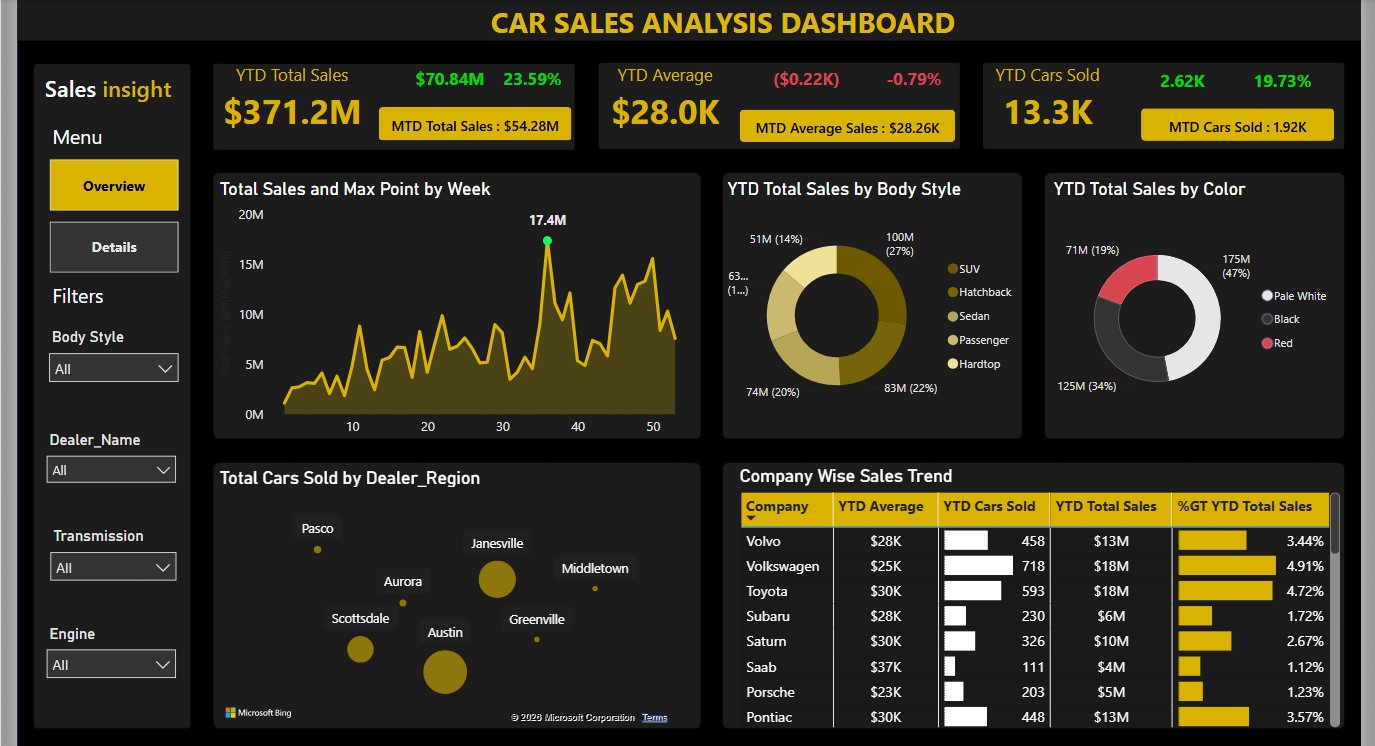

This screenshot's page, from the dashboard's own definition file:
{"tool":"powerbi","page":{"name":"Overview","canvas":[1280,720],"ordinal":0},"visuals":[{"type":"cardVisual","fields":{"Data":["KPIs.YTD Total Sales"]},"box":[161.4,45.7,200,98.6],"z":0},{"type":"cardVisual","fields":{"Data":["KPIs.Sales Diff"]},"box":[342.5,44.3,139.4,62.5],"z":1000},{"type":"cardVisual","fields":{"Data":["KPIs.YoY Sales Growth"]},"box":[422,44.3,139.4,62.5],"z":2000},{"type":"cardVisual","fields":{"Data":["KPIs.MTD KPIs"]},"box":[326.9,87.3,218.8,66.4],"z":3000},{"type":"cardVisual","fields":{"Data":["KPIs.YTD Average"]},"box":[517.1,45.7,201.4,98.6],"z":4000},{"type":"cardVisual","fields":{"Data":["KPIs.Diff Avg Price"]},"box":[682.5,44.3,139.4,62.5],"z":5000},{"type":"cardVisual","fields":{"Data":["KPIs.YoY Avg Price Growth"]},"box":[784,44.3,139.4,62.5],"z":6000},{"type":"cardVisual","fields":{"Data":["KPIs.MTD Avg KPI"]},"box":[671.2,88.9,240,65.8],"z":7000},{"type":"cardVisual","fields":{"Data":["KPIs.YTD Cars Sold"]},"box":[881.4,45.7,201.4,98.6],"z":8000},{"type":"cardVisual","fields":{"Data":["KPIs.Diff Car Sold"]},"box":[1046.4,45.1,127.9,62.1],"z":9000},{"type":"cardVisual","fields":{"Data":["KPIs.YOY Car Sold Growth"]},"box":[1141.4,45.1,127.9,62.1],"z":10000},{"type":"cardVisual","fields":{"Data":["KPIs.MTD Car Solf KPI"]},"box":[1053.7,87.7,218,65.8],"z":11000},{"type":"areaChart","fields":{"Y":["KPIs.Total Sales","KPIs.Max Point"],"Category":["Calender Table.Week"]},"box":[188.5,171.1,461.1,255.2],"z":12000},{"type":"donutChart","fields":{"Category":["CS Data.Body Style"],"Y":["KPIs.YTD Total Sales"]},"box":[671.2,171.2,290,241.2],"z":13000},{"type":"donutChart","fields":{"Y":["KPIs.YTD Total Sales"],"Category":["CS Data.Color"]},"box":[982,172,279,247],"z":14000},{"type":"map","fields":{"Size":["KPIs.Total Cars Sold"],"Category":["CS Data.Dealer_Region"]},"box":[188,446,461,254],"z":15000},{"type":"tableEx","title":"Company Wise Sales Trend","fields":{"Values":["CS Data.Company","KPIs.YTD Average","KPIs.YTD Cars Sold","KPIs.YTD Total Sales","Divide(KPIs.YTD Total Sales, ScopedEval(KPIs.YTD Total Sales, []))"]},"box":[682.9,445.7,581.4,254.3],"z":16000},{"type":"slicer","fields":{"Values":["CS Data.Body Style"]},"box":[20,310,143.3,76.7],"z":17000},{"type":"slicer","fields":{"Values":["CS Data.Engine"]},"box":[17.8,591.1,143.3,76.7],"z":18000},{"type":"slicer","fields":{"Values":["CS Data.Transmission"]},"box":[21.1,498.9,140,77.8],"z":19000},{"type":"slicer","fields":{"Values":["CS Data.Dealer_Name"]},"box":[17.8,406.7,143.3,76.7],"z":20000},{"type":"textbox","box":[28.6,265.7,122.9,40],"z":21000},{"type":"textbox","box":[21.4,67.1,141.4,41.4],"z":22000},{"type":"textbox","box":[28.6,114.3,122.9,40],"z":23000},{"type":"textbox","box":[407.1,0,530,57.1],"z":24000},{"type":"pageNavigator","box":[30.5,153.5,123,109.6],"z":25000}]}

Visuals, with their boxes on the page's 1280x720 design canvas (x1, y1, x2, y2). These are canvas units, not pixel positions in the 1375x746 screenshot, which may show the page scaled, cropped or inside an application window:
cardVisual - KPIs.YTD Total Sales: detection(161, 46, 361, 144)
cardVisual - KPIs.Sales Diff: detection(342, 44, 482, 107)
cardVisual - KPIs.YoY Sales Growth: detection(422, 44, 561, 107)
cardVisual - KPIs.MTD KPIs: detection(327, 87, 546, 154)
cardVisual - KPIs.YTD Average: detection(517, 46, 718, 144)
cardVisual - KPIs.Diff Avg Price: detection(682, 44, 822, 107)
cardVisual - KPIs.YoY Avg Price Growth: detection(784, 44, 923, 107)
cardVisual - KPIs.MTD Avg KPI: detection(671, 89, 911, 155)
cardVisual - KPIs.YTD Cars Sold: detection(881, 46, 1083, 144)
cardVisual - KPIs.Diff Car Sold: detection(1046, 45, 1174, 107)
cardVisual - KPIs.YOY Car Sold Growth: detection(1141, 45, 1269, 107)
cardVisual - KPIs.MTD Car Solf KPI: detection(1054, 88, 1272, 154)
areaChart - KPIs.Total Sales x KPIs.Max Point: detection(188, 171, 650, 426)
donutChart - CS Data.Body Style x KPIs.YTD Total Sales: detection(671, 171, 961, 412)
donutChart - KPIs.YTD Total Sales x CS Data.Color: detection(982, 172, 1261, 419)
map - KPIs.Total Cars Sold x CS Data.Dealer_Region: detection(188, 446, 649, 700)
"Company Wise Sales Trend" tableEx: detection(683, 446, 1264, 700)
slicer - CS Data.Body Style: detection(20, 310, 163, 387)
slicer - CS Data.Engine: detection(18, 591, 161, 668)
slicer - CS Data.Transmission: detection(21, 499, 161, 577)
slicer - CS Data.Dealer_Name: detection(18, 407, 161, 483)
textbox: detection(29, 266, 152, 306)
textbox: detection(21, 67, 163, 108)
textbox: detection(29, 114, 152, 154)
textbox: detection(407, 0, 937, 57)
pageNavigator: detection(30, 154, 154, 263)
